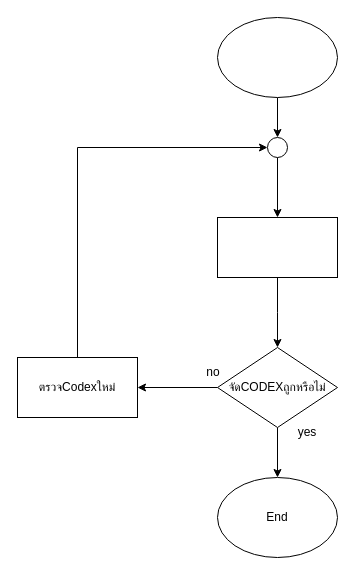
Image size: 355x575. Some labels were removed from this diagram. Each missing label, with the centre of its shape:
"Start" goes at [277,57].
"จัด CODEX" goes at [277,247].
